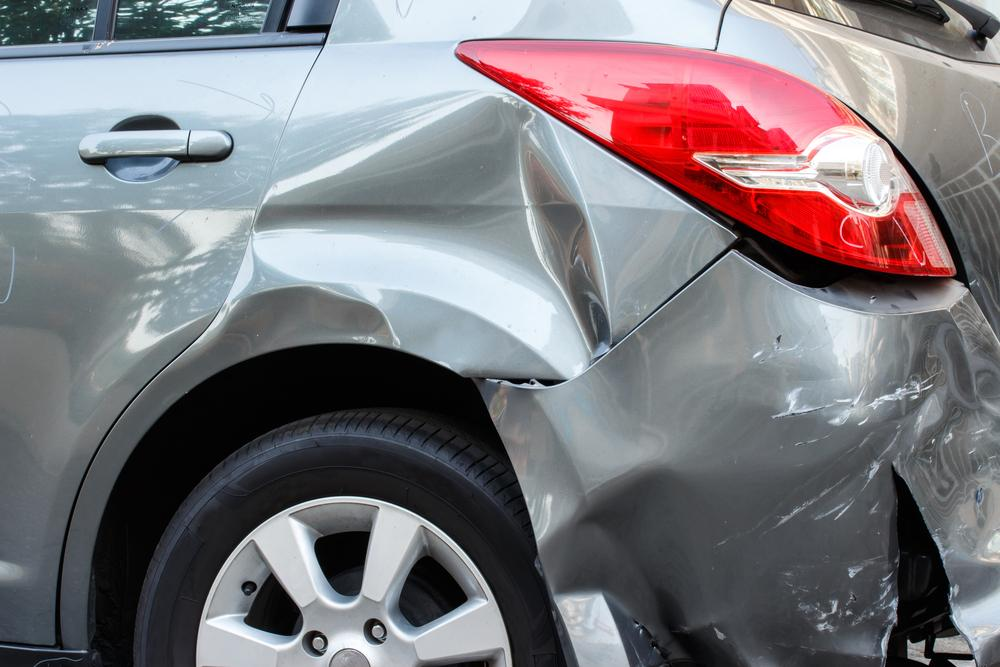crack: (881, 458, 980, 667)
dent: (223, 98, 617, 374), (534, 456, 751, 667), (882, 303, 1000, 644)
scratch: (748, 333, 902, 653)
